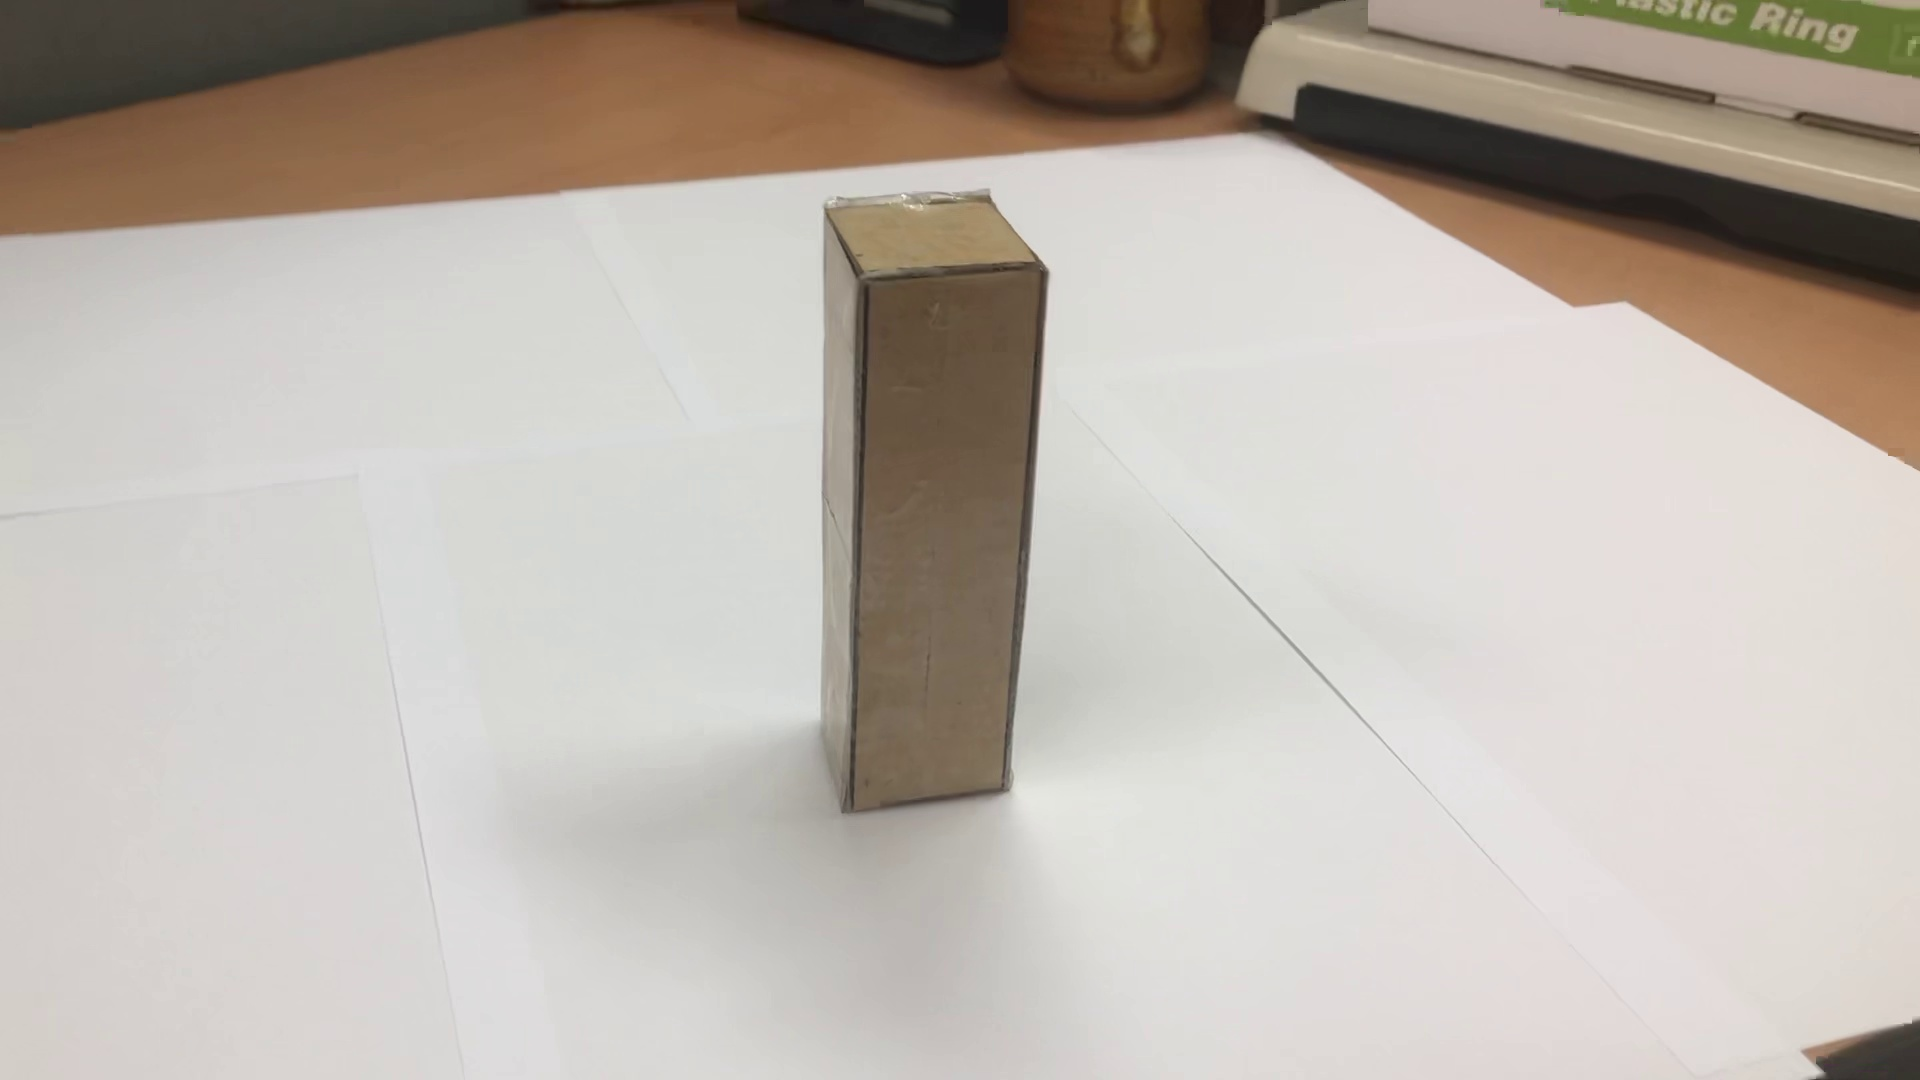box: (800, 173, 1038, 831)
